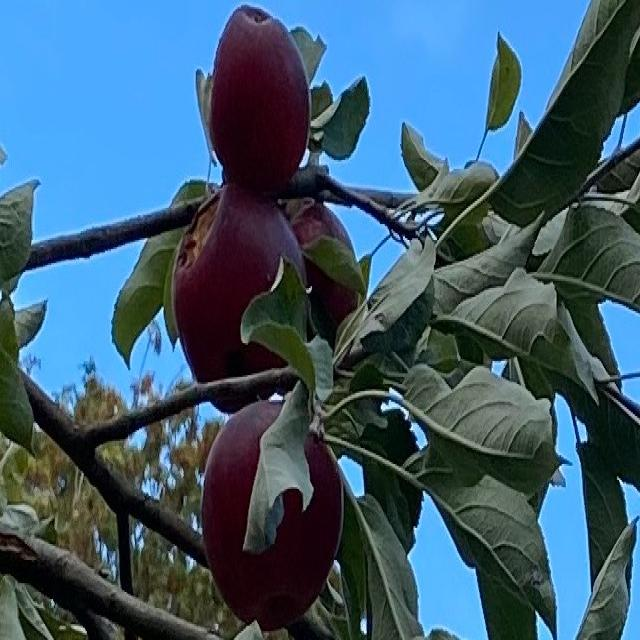100-_ripeness: (207, 400, 342, 626), (174, 190, 307, 412), (210, 6, 311, 180), (294, 201, 359, 348)
